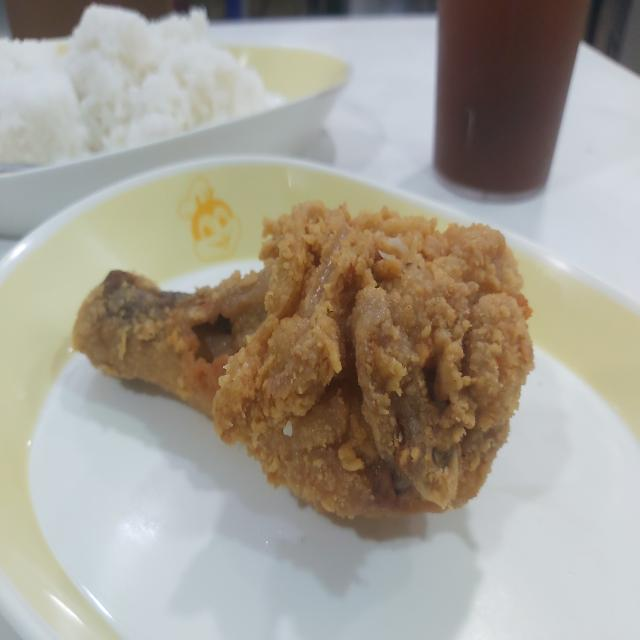Chicken -Fried Chicken-: (49, 190, 545, 571)
